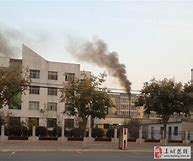smoke: (69, 37, 133, 93)
